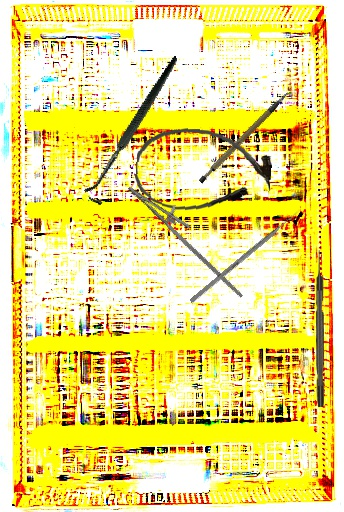Cannula: (132, 124, 275, 218)
Hook Surgical: (48, 55, 222, 209), (316, 250, 324, 407)
Needle Holder: (116, 176, 262, 299)
Pusher: (189, 207, 303, 304)
Scalpel Handle: (188, 91, 302, 185)
